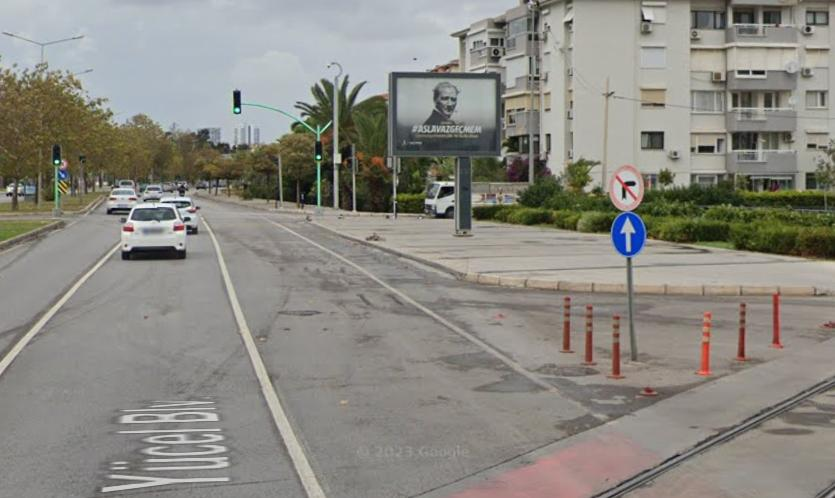forward: (612, 214, 644, 254)
greenlight: (231, 91, 242, 115), (53, 145, 61, 166), (316, 141, 323, 161)
rightturnsareforbidden: (611, 164, 646, 210)
